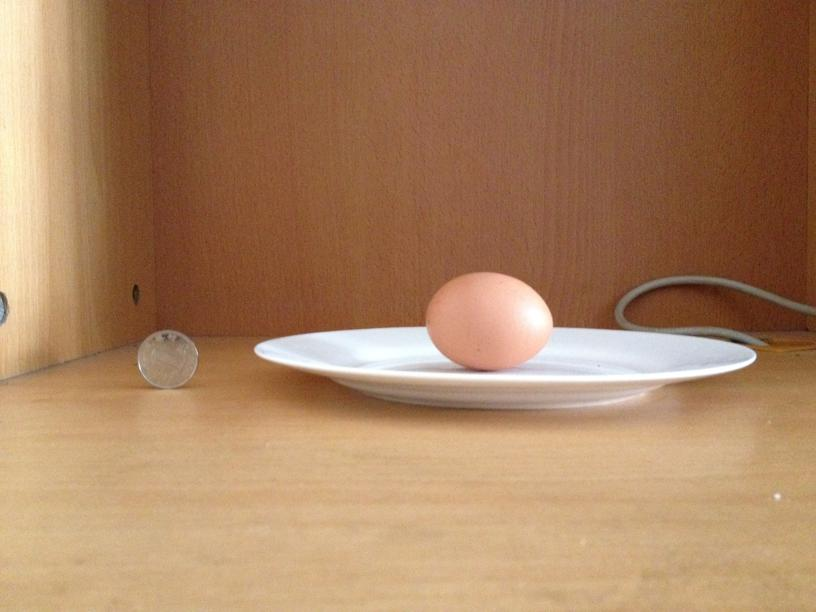coin: (135, 329, 200, 388)
egg: (422, 271, 553, 369)
